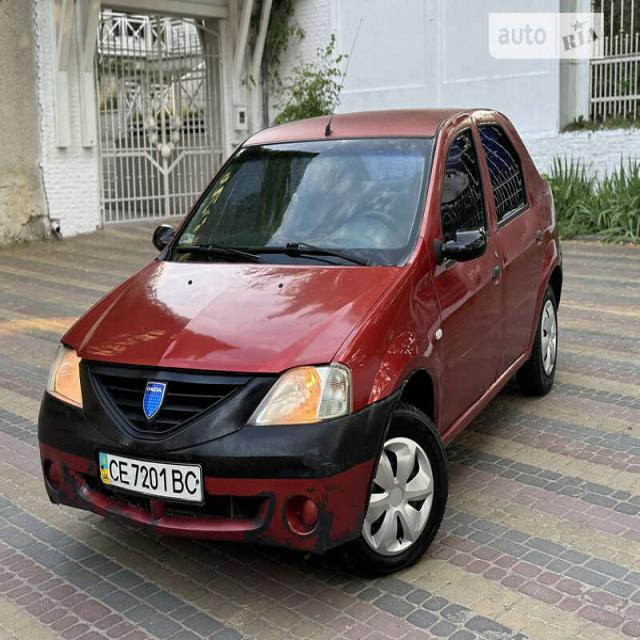plate: (96, 448, 210, 511)
